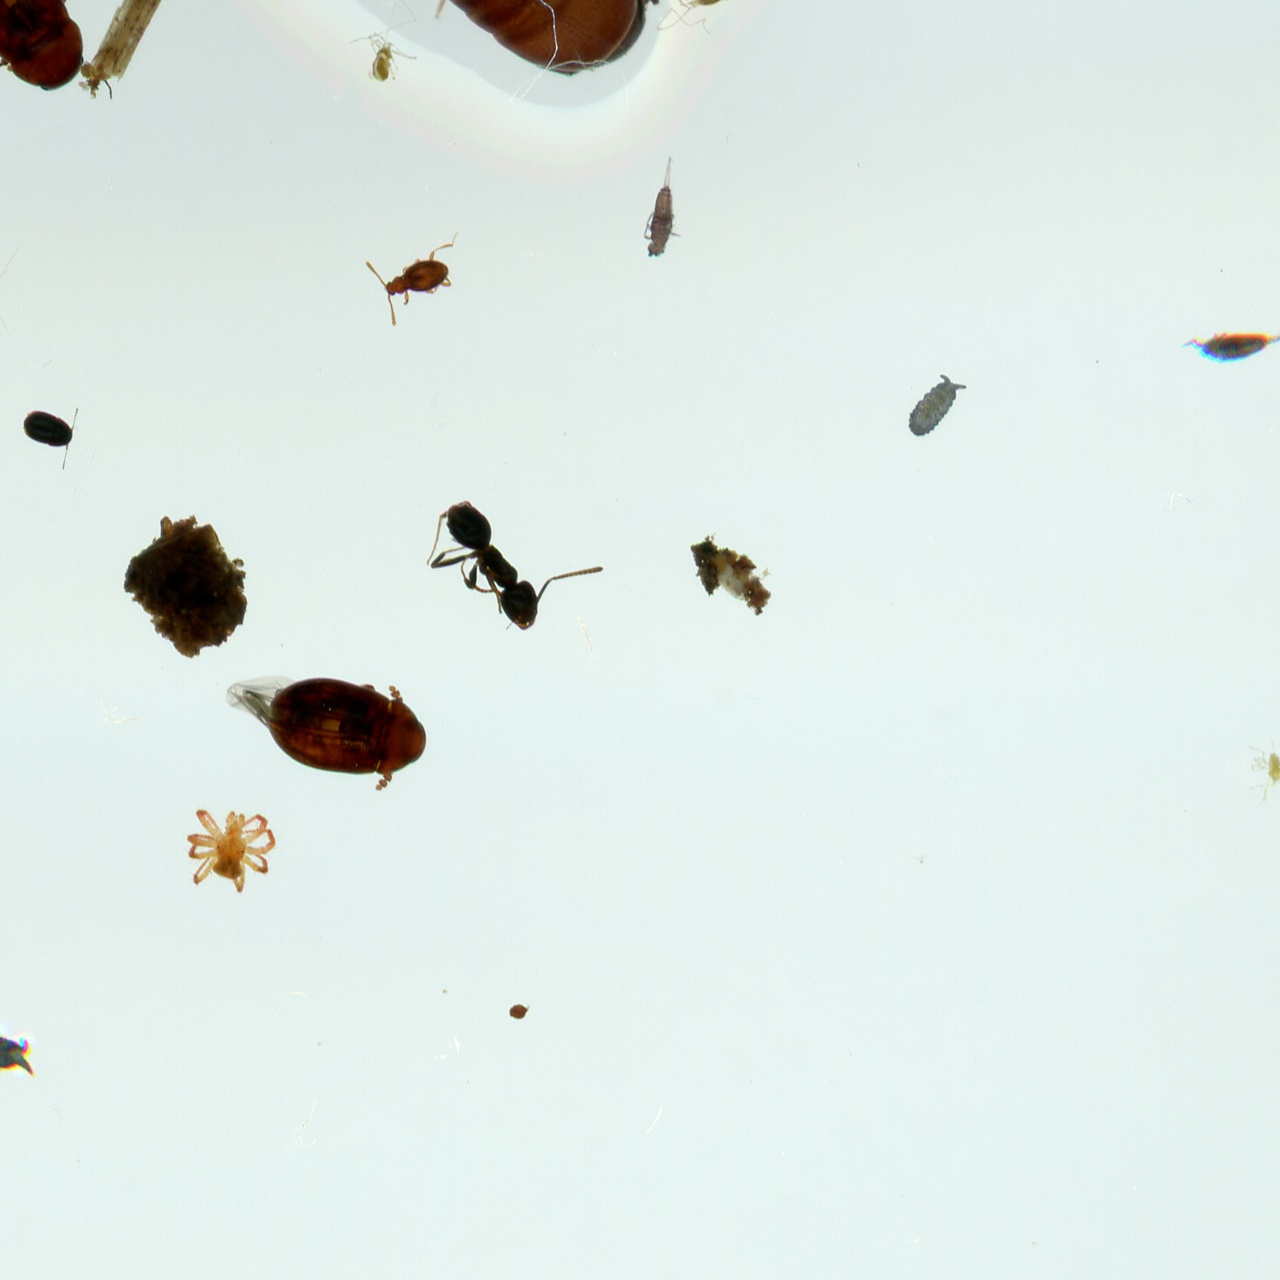arthropod: (243, 0, 765, 72), (426, 501, 603, 633), (228, 675, 427, 792), (366, 230, 467, 327), (0, 0, 85, 92), (187, 808, 276, 894), (352, 0, 417, 80), (642, 155, 684, 258), (907, 373, 968, 439), (21, 403, 82, 469), (1244, 730, 1280, 812), (1179, 332, 1280, 361), (656, 0, 732, 36), (0, 1023, 34, 1078)
